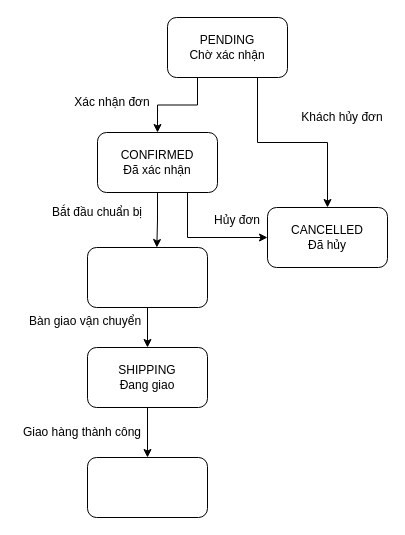
Some shapes in this 405 by 535 pixel diagram are drawn without their labels. Here are the shapes that lost their labels. From the top down, the box of each, then its label:
(86, 246, 208, 308): PREPARING Đang chuẩn bị
(86, 456, 208, 518): DELIVERED Đã giao
